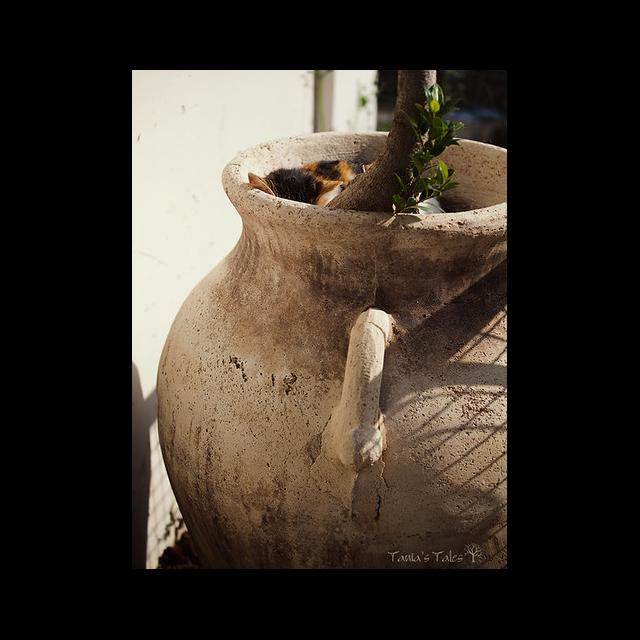animals: (251, 170, 344, 217)
